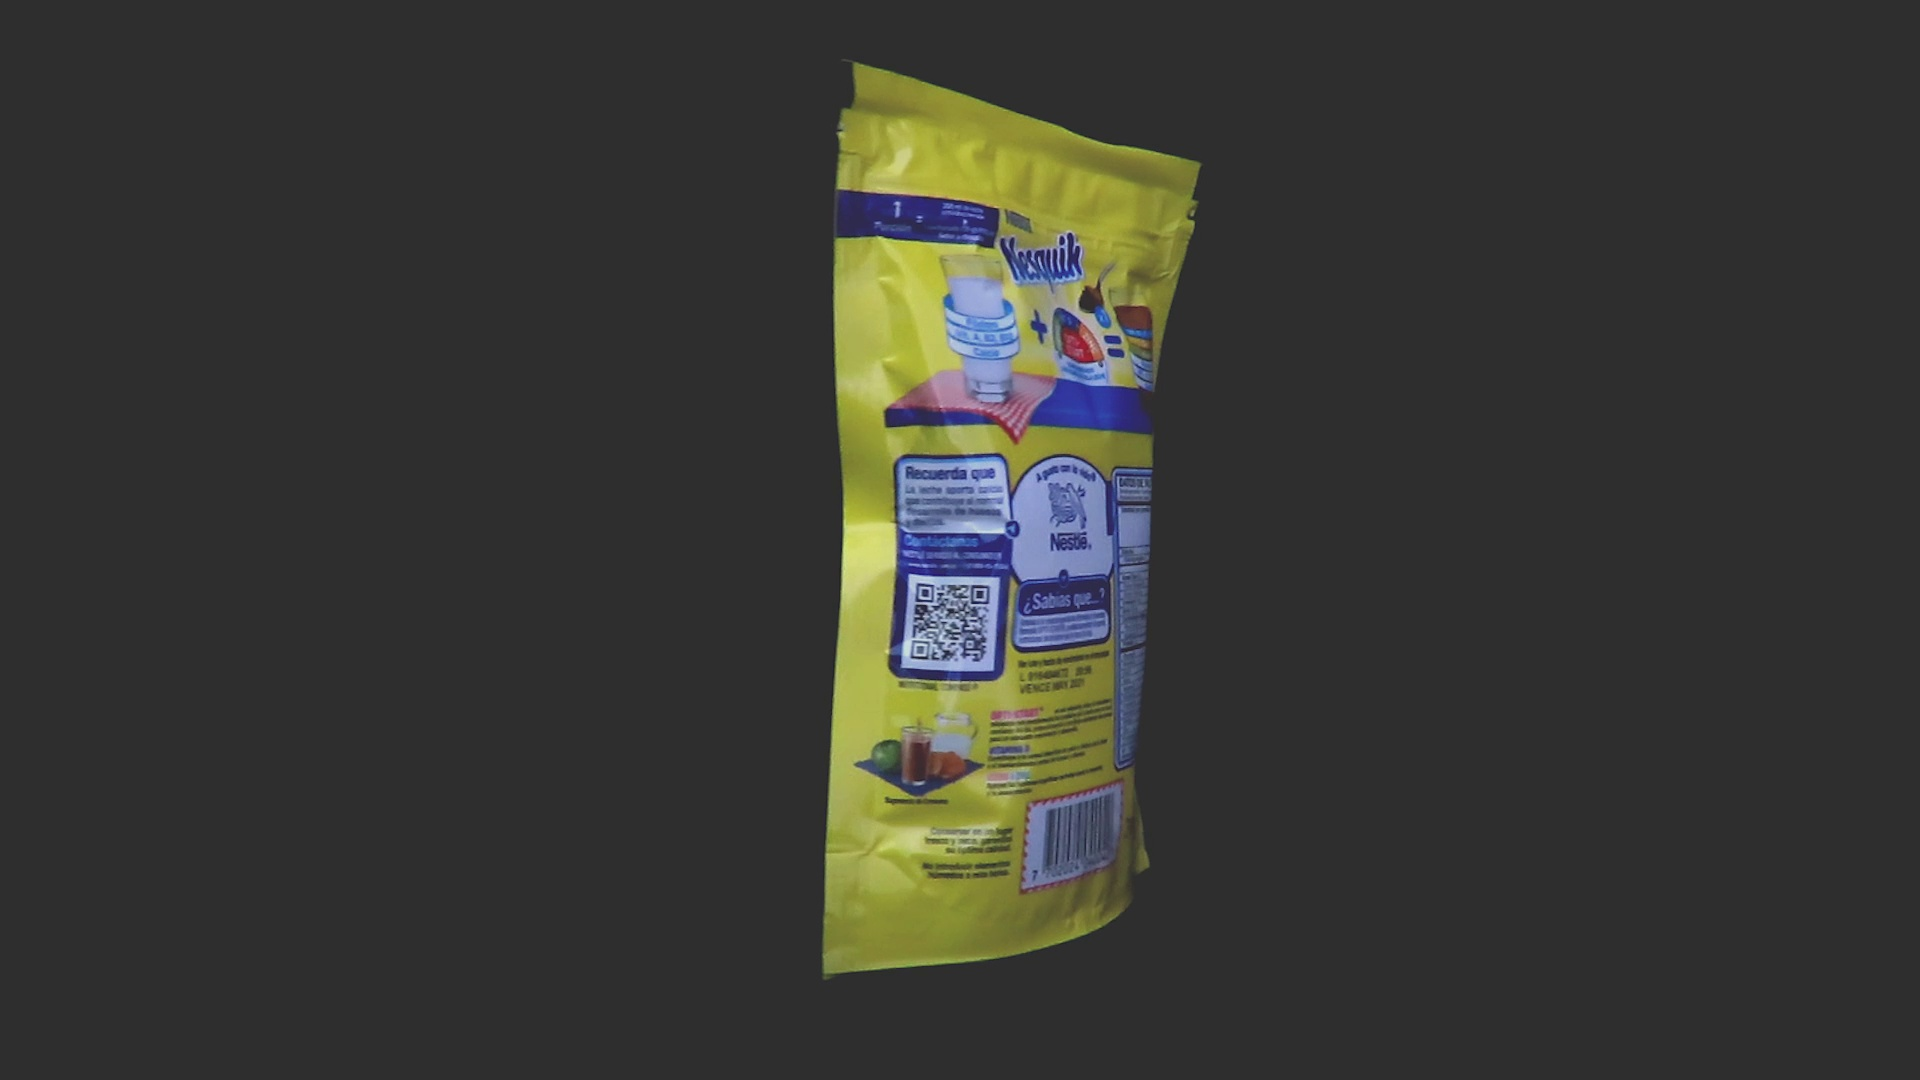COL0170303DYP20000: (818, 53, 1208, 986)
